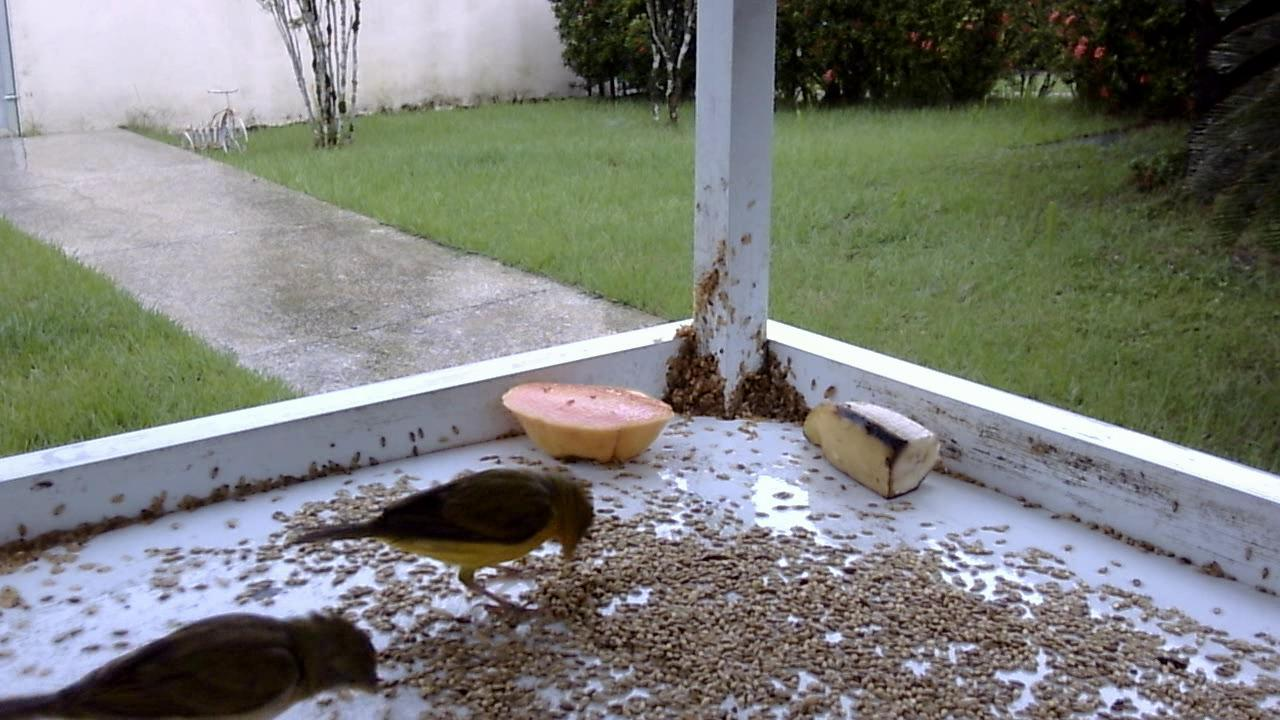canario_do_amazonas: (279, 453, 592, 627), (9, 600, 379, 716)
